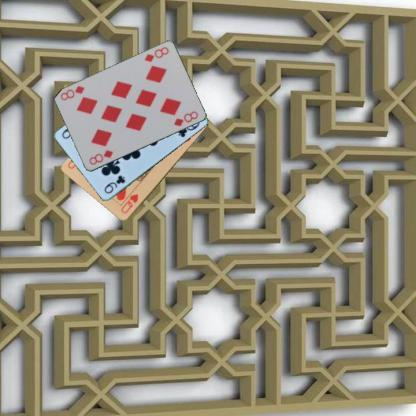8d: (142, 44, 170, 64), (86, 148, 115, 166)
9c: (102, 172, 127, 196)
Qh: (118, 191, 140, 215)
